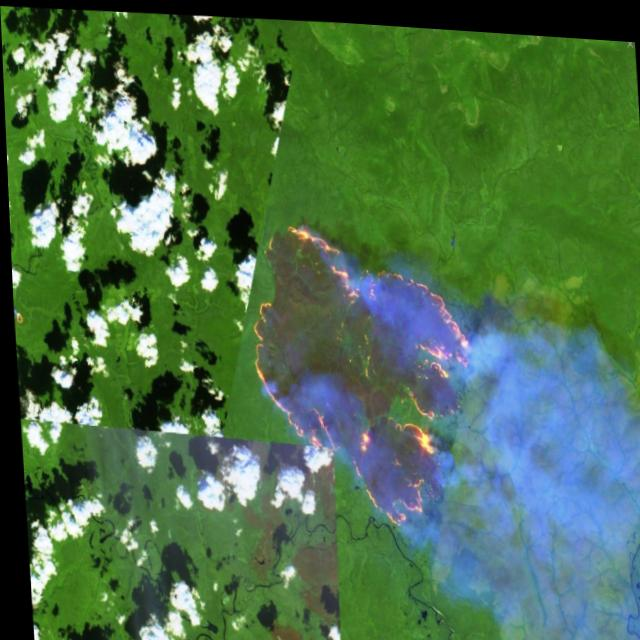fire: (238, 198, 499, 543)
